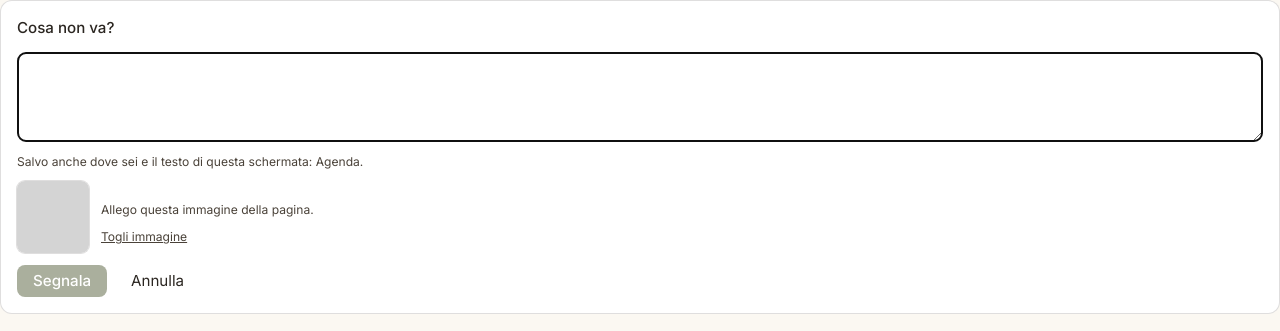
Test: «Segnala» con l'immagine della pagina › 🔴 se il deposito respinge l'immagine, «Segnalata» lo dice
In the text box labelled "Cosa non va?": {"x": 640, "y": 97} 17,52 -> 1263,142, type "i pulsanti escono"
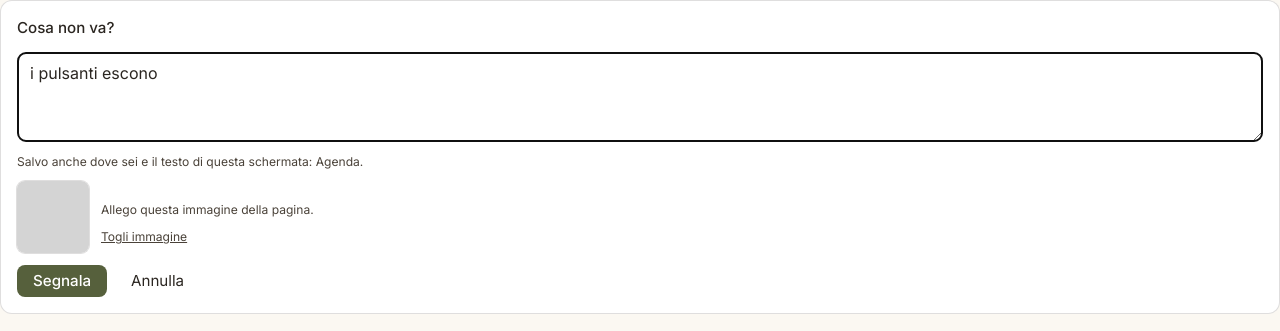
Click the button "Segnala": {"x": 62, "y": 281} 17,265 -> 107,297
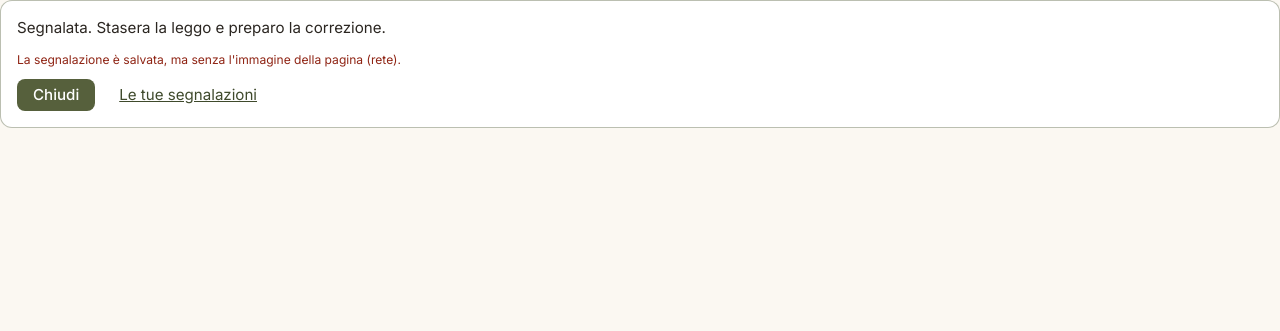
Result: the text "Segnalata. Stasera la leggo e preparo la correzione." is shown at 17,18 -> 386,37
Result: the text "salvata, ma senza l'immagine della pagina" is shown at 17,52 -> 401,67
